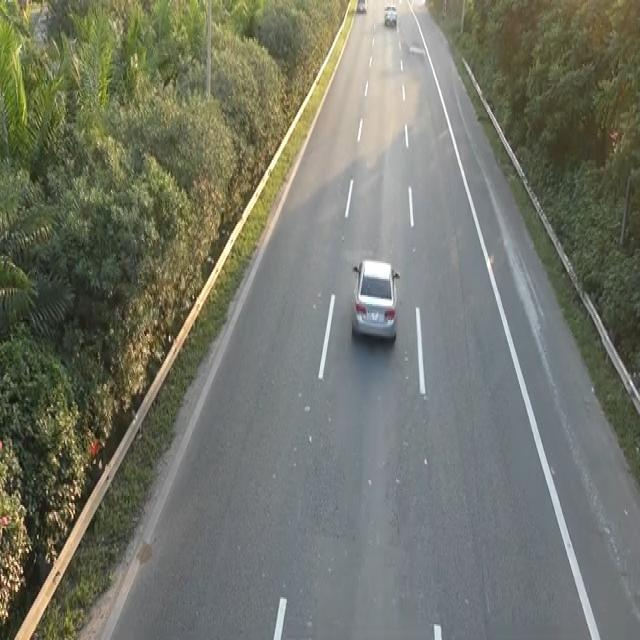bus: (349, 252, 401, 345)
car: (383, 4, 398, 26)
